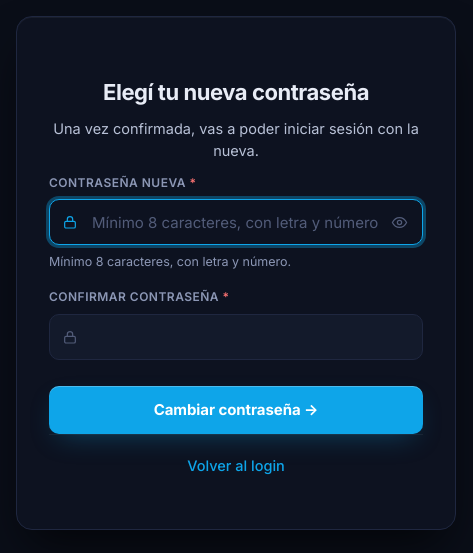
Test: ResetPassword › valida client: pass sin letra → error
Type "12345678" into the password field labelled "Contraseña nueva *" at point(236, 222), box left=49, top=199, right=423, bottom=245
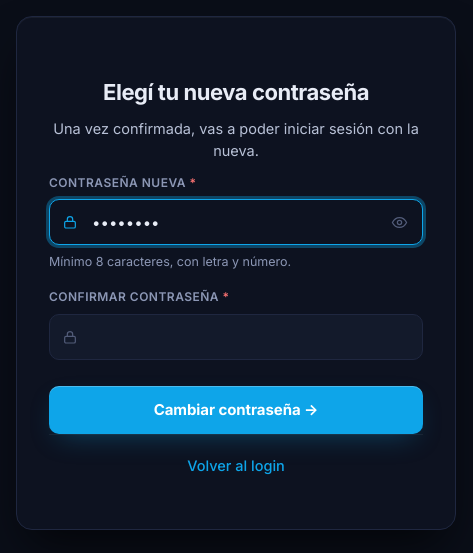
Type "12345678" into the password field labelled "Confirmar contraseña *" at point(236, 337), box left=49, top=314, right=423, bottom=360
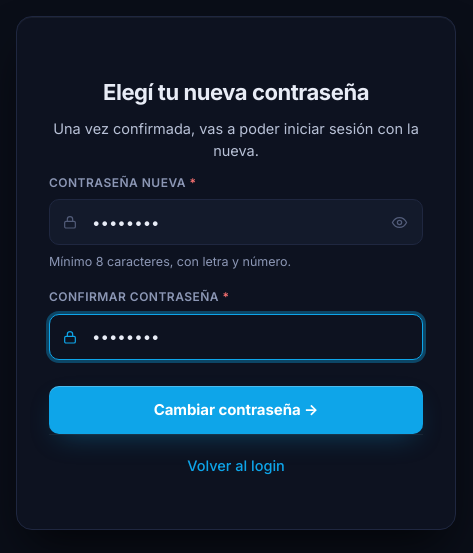
Click the button "Cambiar contraseña →" at point(236, 410), box left=49, top=386, right=423, bottom=434
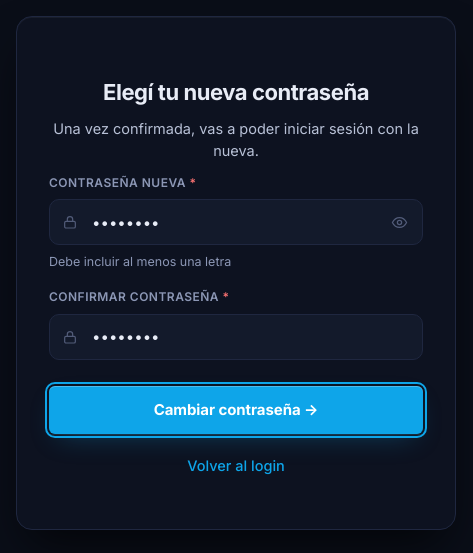
Expected: the text "Debe incluir al menos una letra" is shown, left=49, top=254, right=231, bottom=269
